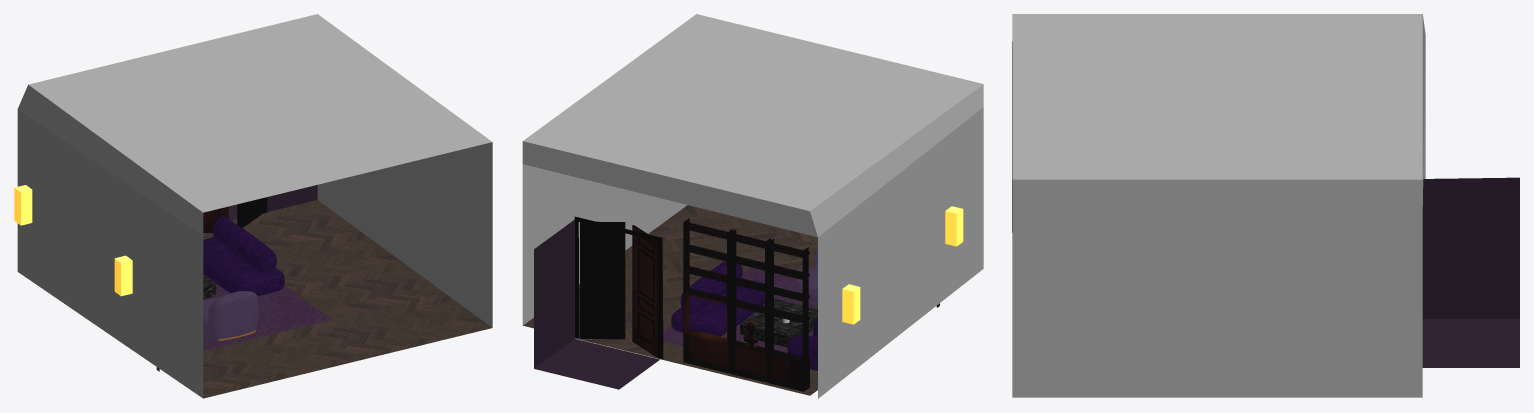
File: scene_baies.glb
The picture shows the model from 3 angles, left to right: view 1: azimuth 30°, elevation 25°; view 2: azimuth 150°, elevation 25°; view 3: azimuth 270°, elevation 25°; orthographic projection. The views are drawn at different scales.
Visible parts, largest first — view 1: base_baies, base_baies_ground, prop_baies_sofa_long, tapis_baies, prop_baies_sofa_small_close, base_baies_walls, prop_baies_applique_left_, prop_baies_applique_right_, porte_baies_droite; view 2: base_baies, base_baies_etageres, base_baies_ground, base_baies_walls, porte_baies_droite, porte_baies_gauche, prop_baies_sofa_long, porte_baies_encadrement, prop_baies_tableBasse, tapis_baies, prop_baies_applique_right_, prop_baies_applique_left_ (+2 smaller); view 3: base_baies, base_baies_walls.
Part boxes in pixels (<box>): base_baies: <box>17,14,492,398</box>; base_baies_ground: <box>203,200,491,398</box>; prop_baies_sofa_long: <box>203,216,284,295</box>; tapis_baies: <box>203,274,331,350</box>; prop_baies_sofa_small_close: <box>203,291,258,340</box>; base_baies_walls: <box>156,185,317,371</box>; prop_baies_applique_left_: <box>114,255,132,296</box>; prop_baies_applique_right_: <box>14,185,32,225</box>; porte_baies_droite: <box>237,198,262,227</box>; base_baies: <box>522,14,983,398</box>; base_baies_etageres: <box>683,218,809,391</box>; base_baies_ground: <box>523,205,817,395</box>; base_baies_walls: <box>534,219,939,389</box>; porte_baies_droite: <box>580,221,625,339</box>; porte_baies_gauche: <box>632,225,658,357</box>; prop_baies_sofa_long: <box>671,261,764,336</box>; porte_baies_encadrement: <box>574,216,663,358</box>; prop_baies_tableBasse: <box>740,299,817,347</box>; tapis_baies: <box>663,261,817,352</box>; prop_baies_applique_right_: <box>842,284,860,324</box>; prop_baies_applique_left_: <box>945,206,963,246</box>; base_baies: <box>1012,14,1425,397</box>; base_baies_walls: <box>1012,41,1519,367</box>.
Size of the model in its own units: 6.88 by 3.91 by 8.02.
Materials: 25 (21 with a texture image).
